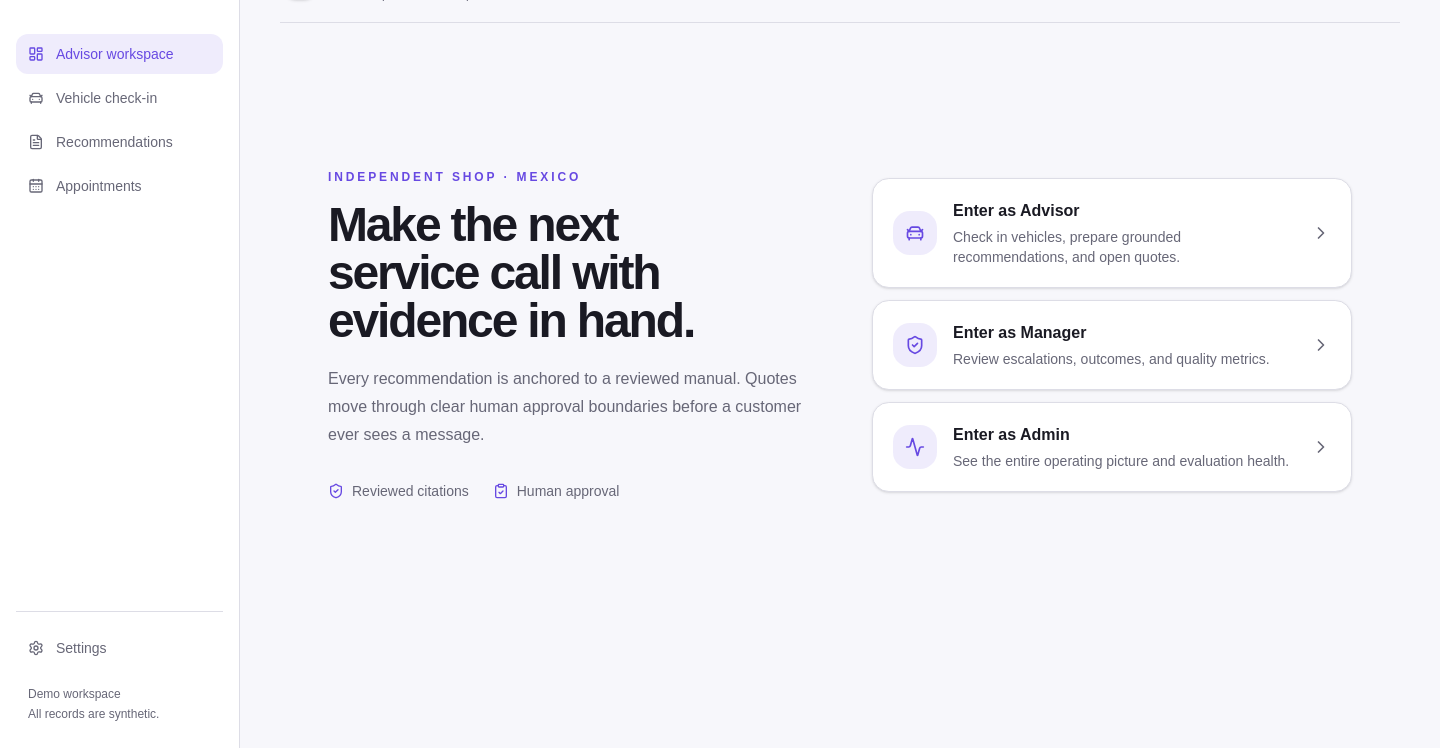
Test: a recommendation whose check-in is gone asks for the check-in again
Click the button "Enter as Advisor". click: (1112, 232)
box: [872,178,1352,288]
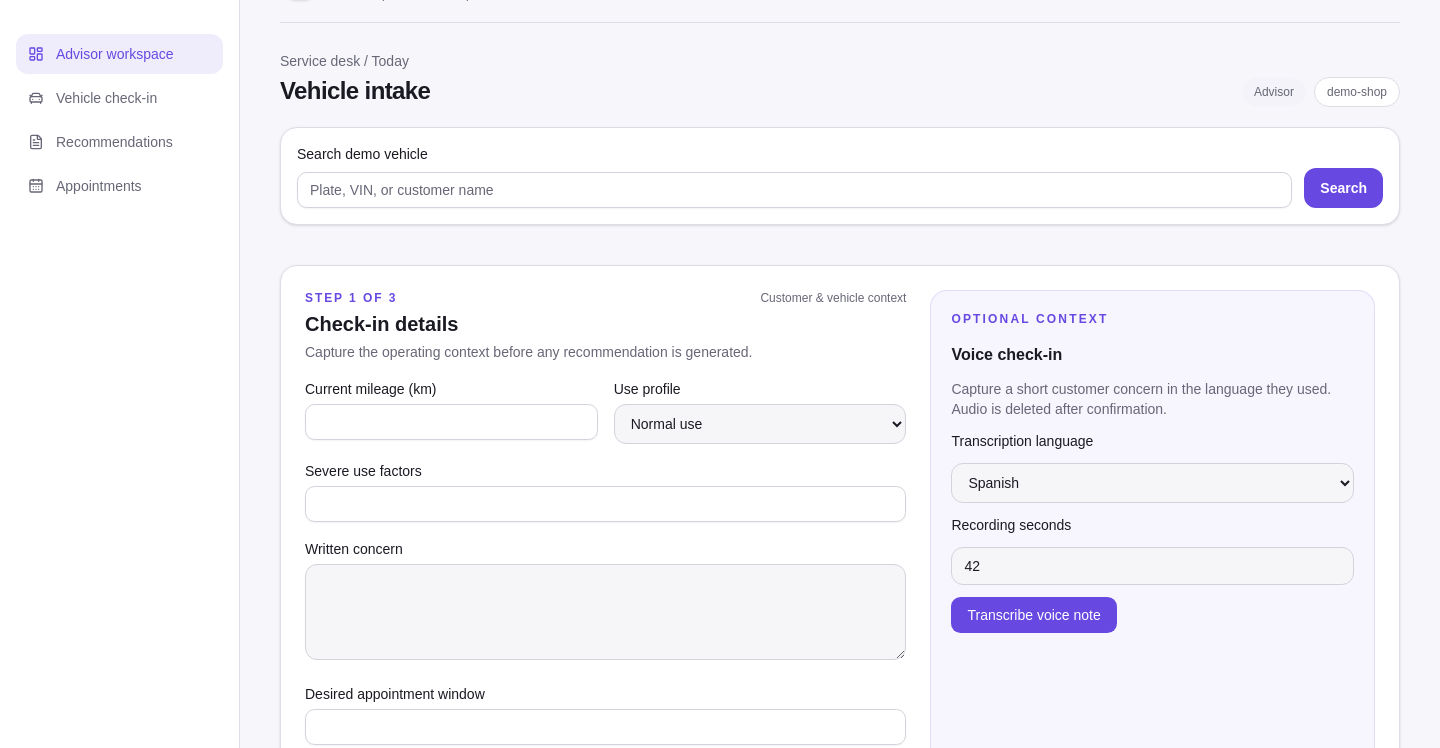
Type "48000" into the number field labelled "Current mileage (km)". click: (451, 422)
box: [305,404,598,440]
(page scrolled)
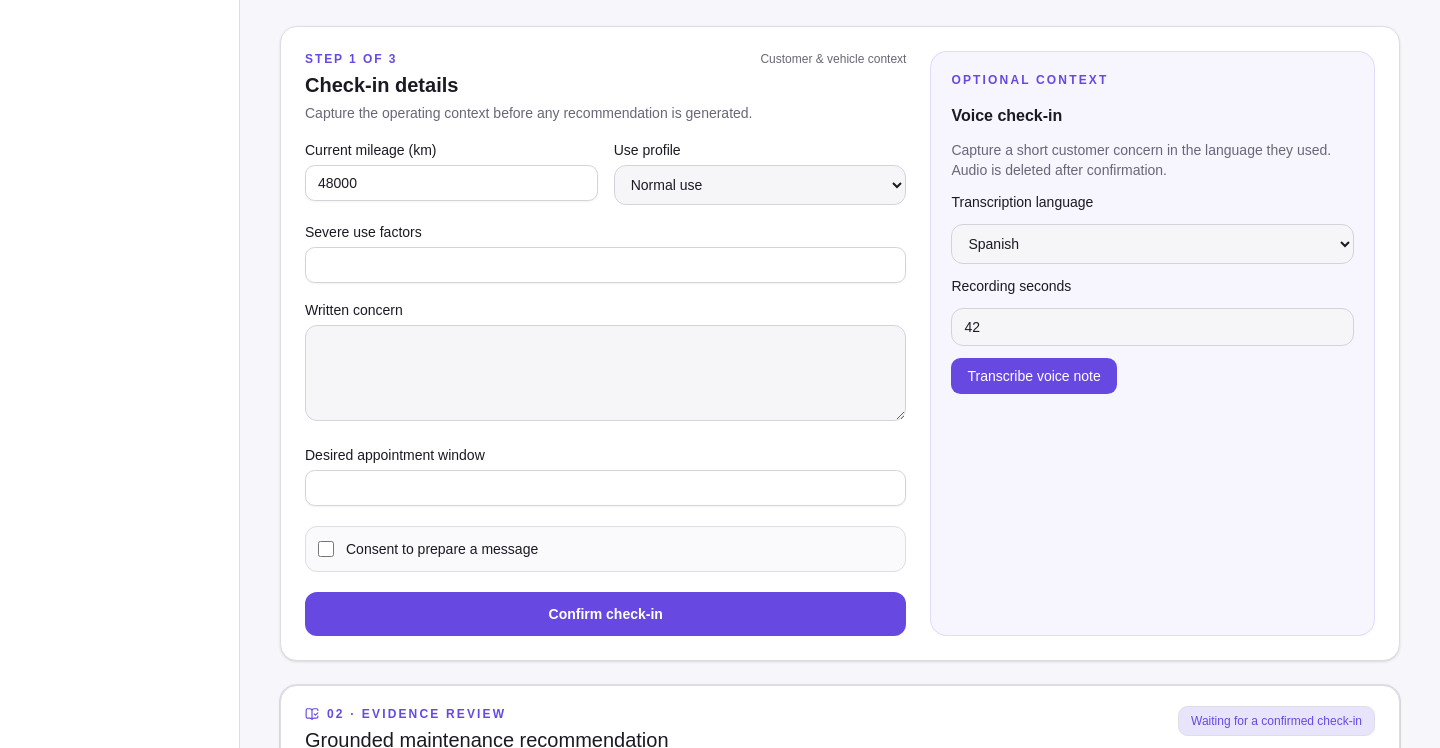
Submit the form "Check-in details"
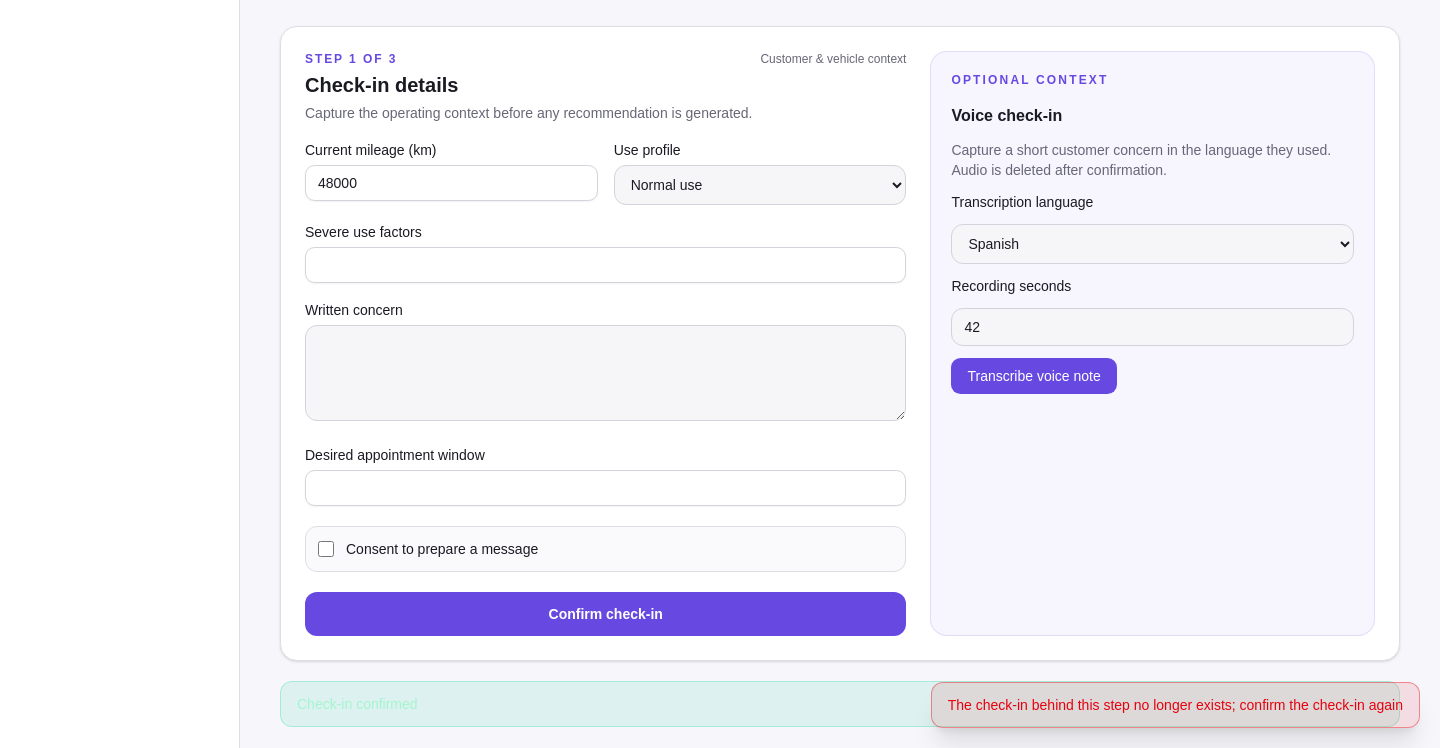
Now the text "The check-in behind this step no longer exists; confirm the check-in again" is shown, box [931,682,1420,728]
